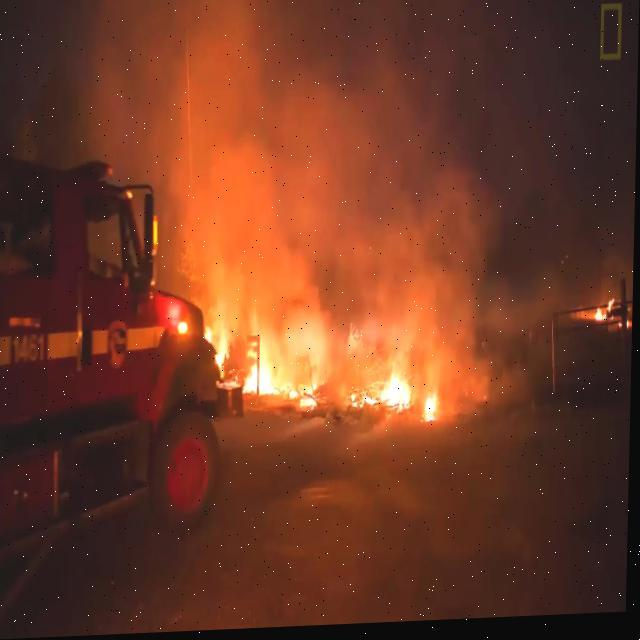Fire: (249, 312, 328, 408), (357, 364, 412, 418), (202, 314, 232, 368), (594, 296, 618, 328), (424, 394, 443, 430)
